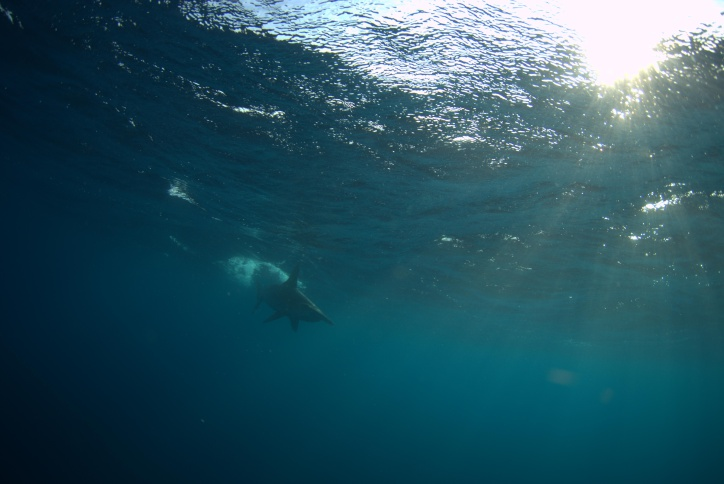Hammer: (212, 238, 333, 361)
